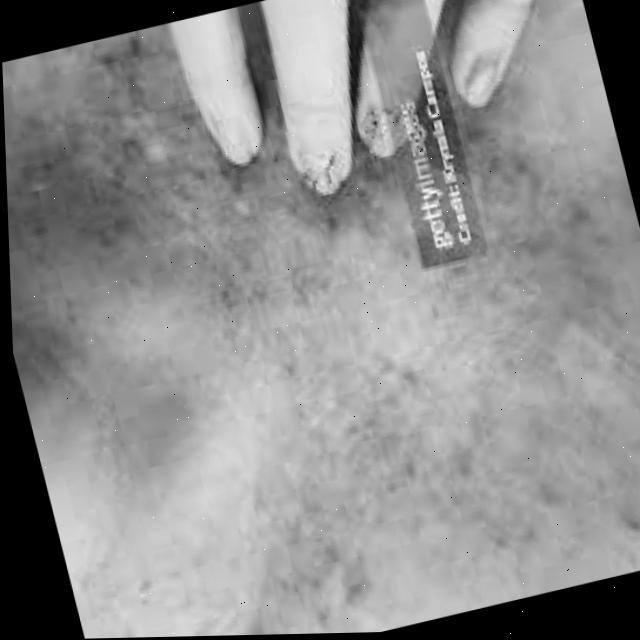Eczema: (107, 0, 433, 237)
